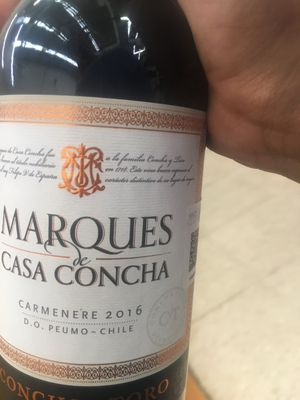marques de casa concha carmenere: (2, 2, 208, 398)
